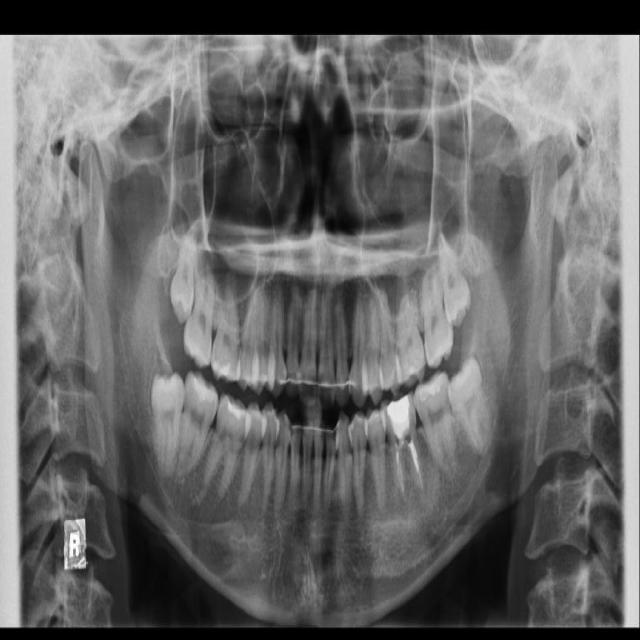3M ESPE Implant: (169, 226, 197, 325)
52: (201, 387, 267, 454), (402, 365, 465, 427), (170, 367, 229, 431), (372, 385, 427, 442), (209, 334, 241, 384)
73: (388, 430, 427, 493), (580, 572, 586, 587)
BioHorizons Implant: (418, 235, 456, 369)
BioLife Implant: (436, 232, 475, 329)
Biomet 3i Implant: (442, 355, 495, 458)
Blue Sky Bio Implant: (409, 368, 463, 486)
Caries: (181, 243, 219, 369)
Implant: (177, 370, 222, 474)
Keystone Dental Implant: (151, 373, 185, 474)
